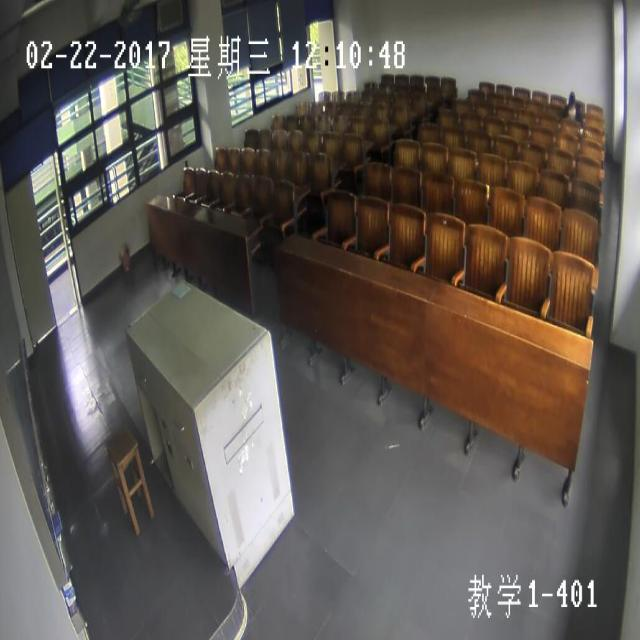person: (568, 88, 576, 110)
